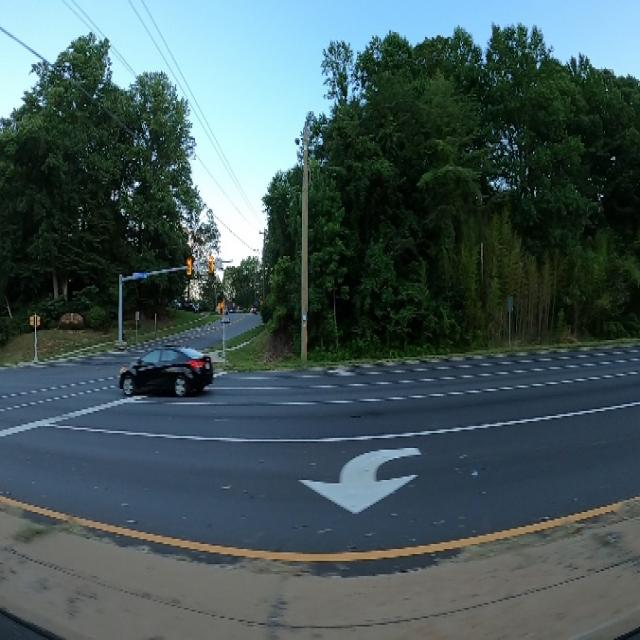car: (115, 332, 217, 406)
